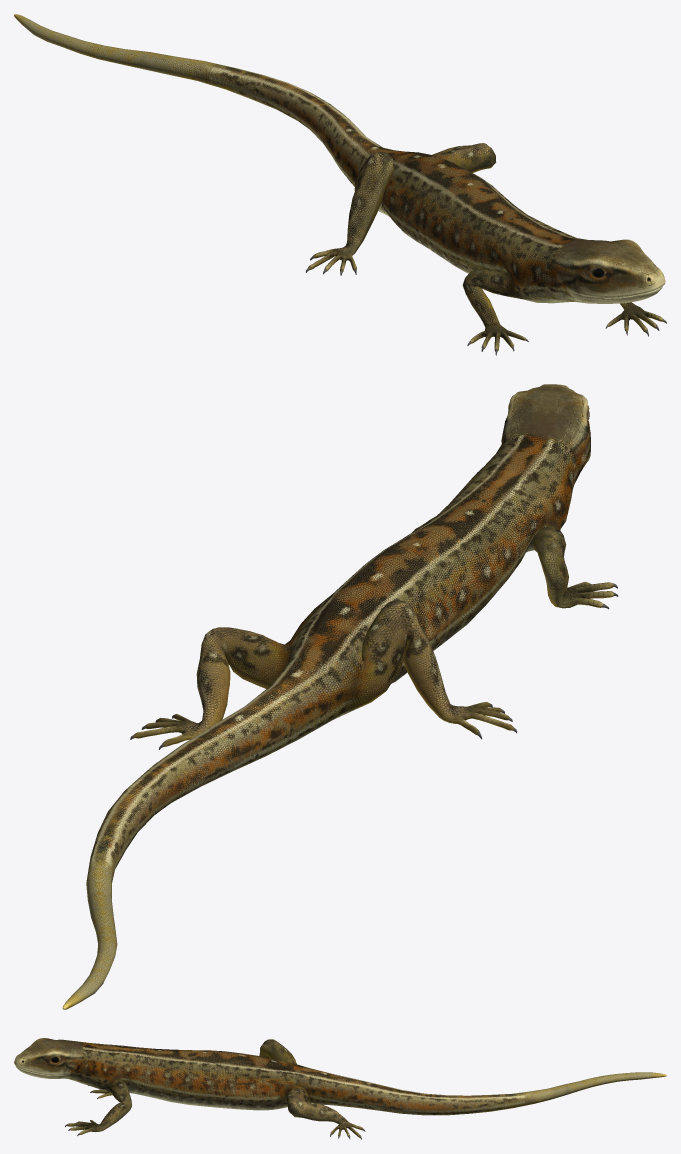
File: Standing172.obj
3 views of the same model, one above another, from view 1: azimuth 30°, elevation 25°; view 2: azimuth 150°, elevation 25°; view 3: azimuth 270°, elevation 25° (orthographic). The views are drawn at different scales.
Parts seen in each view (by area): view 1: Lizard; view 2: Lizard; view 3: Lizard.
Part boxes in pixels (x1=…): Lizard: x1=14, y1=14, x2=666, y2=355; Lizard: x1=62, y1=384, x2=618, y2=1009; Lizard: x1=14, y1=1038, x2=666, y2=1139.
Bounding box in the file's own units: 25.34 × 12.09 × 101.
